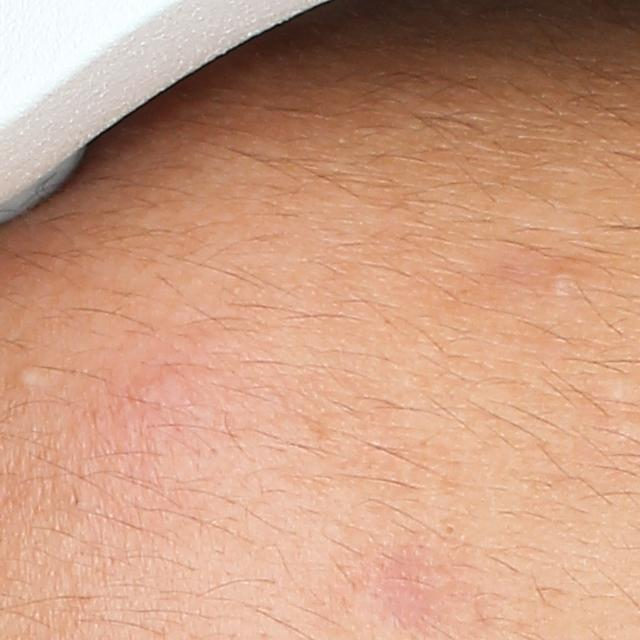comedo: (541, 261, 577, 304), (14, 364, 50, 393), (440, 519, 459, 534)
